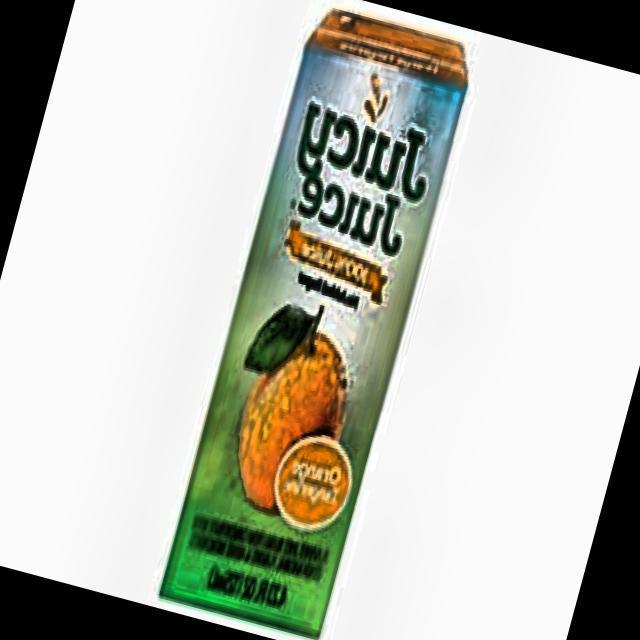cardboard: (156, 0, 481, 640)
